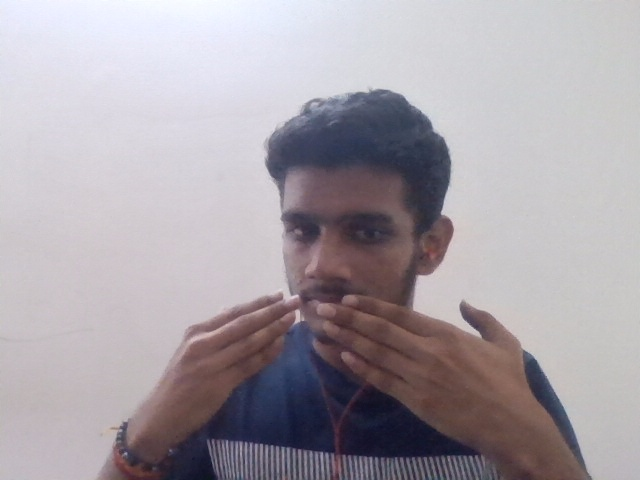thanks: (144, 271, 537, 458)
